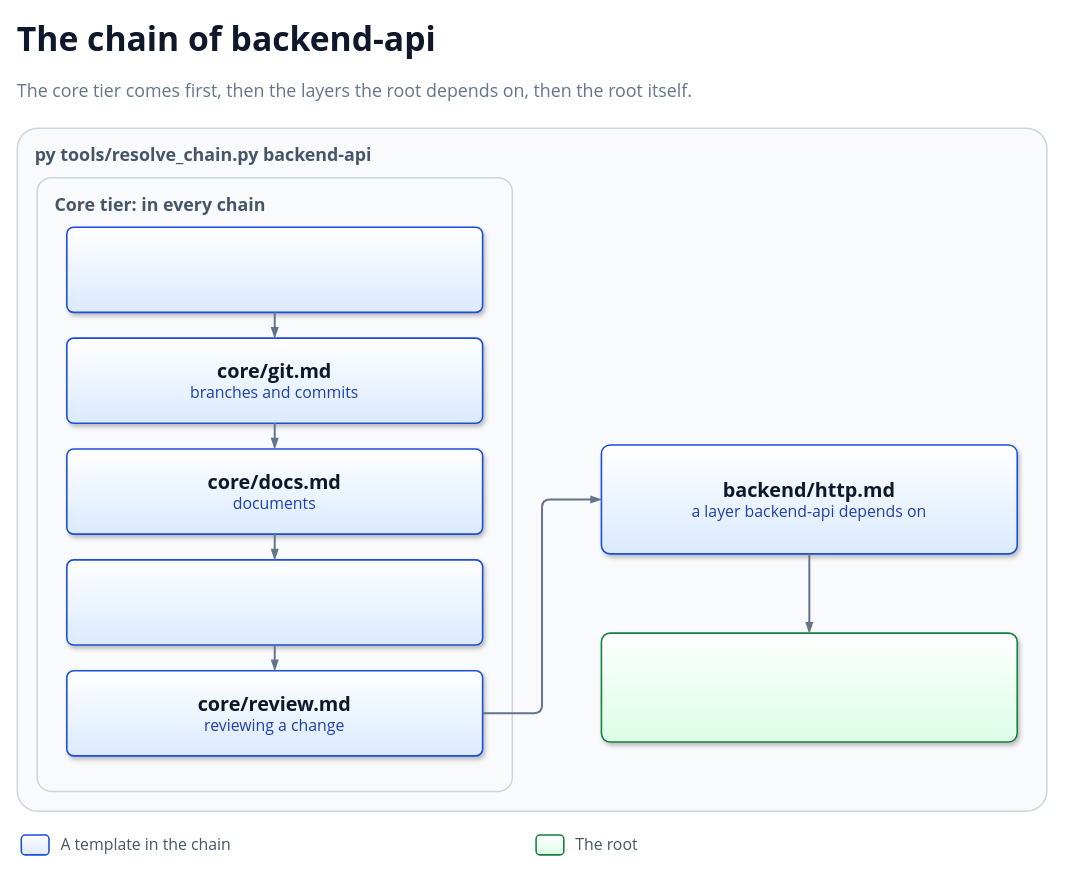
Image size: 1065x875. Some labels were removed from this diagram. Here are the shapes that lost their labels. From the top down, the centre of each, then its label:
(x=275, y=271): core/quality.md code quality
(x=275, y=603): core/testing.md tests
(x=809, y=688): backend/api.md the root the project picked
